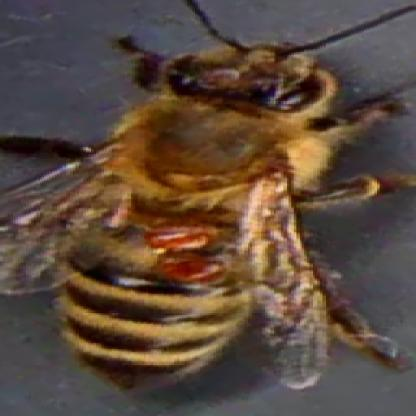bee: (50, 36, 326, 394)
vaoora: (151, 254, 227, 284), (141, 225, 214, 247)
